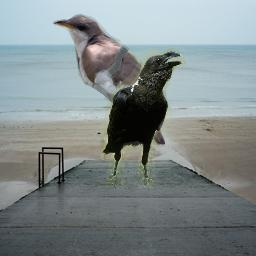Crow: (100, 48, 186, 188)
Cuckoo: (51, 12, 165, 149)
